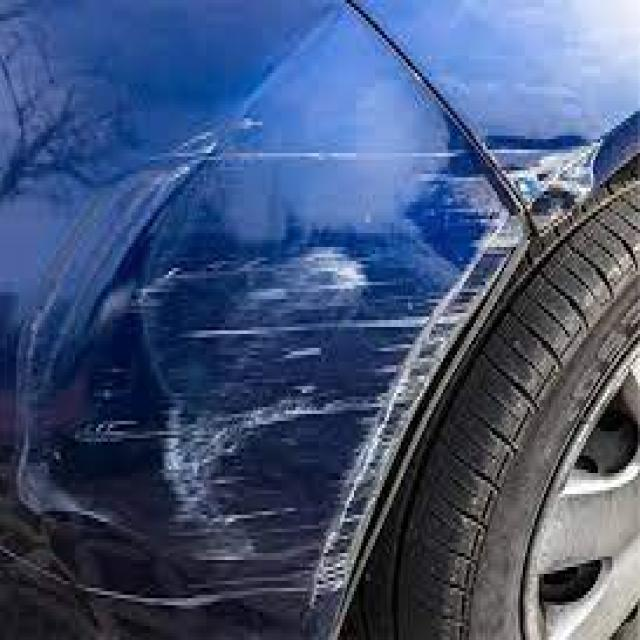minor: (112, 151, 478, 629), (522, 100, 610, 224)
